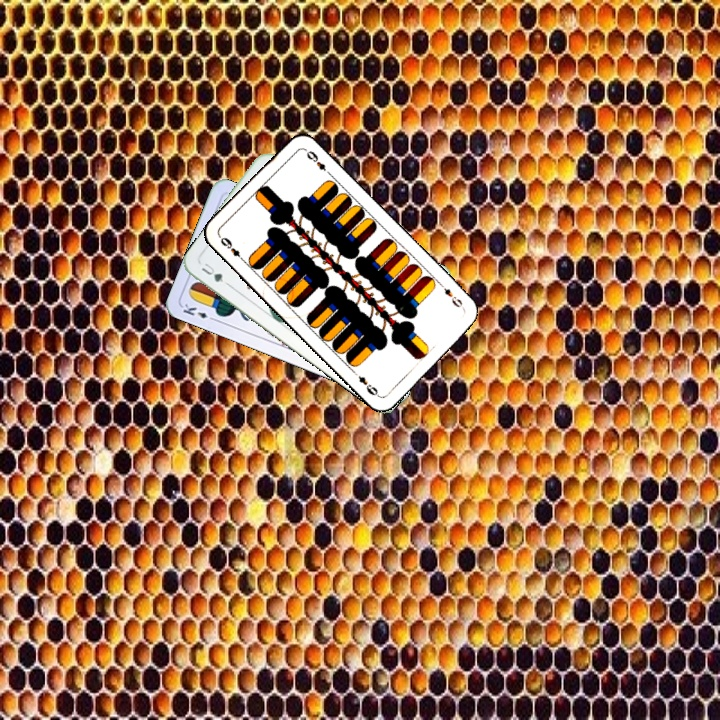E9: (435, 279, 467, 312), (216, 233, 248, 265)
EK: (179, 300, 218, 324)
GU: (197, 259, 231, 288)
